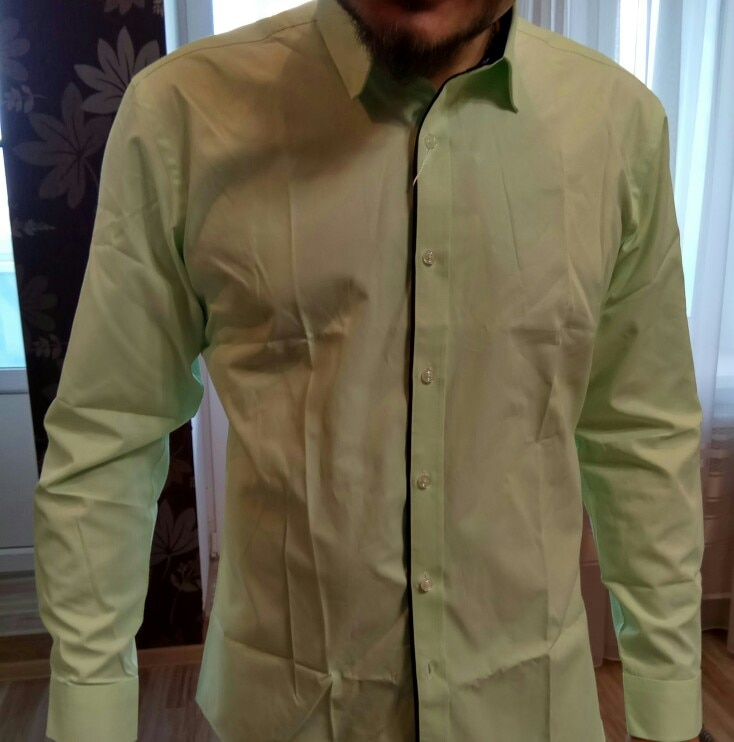shirts: (45, 18, 717, 742)
